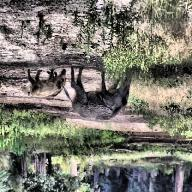boar: (69, 64, 137, 129), (28, 68, 70, 106)
